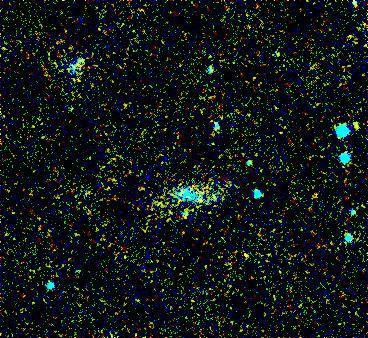star: (343, 109, 368, 139)
